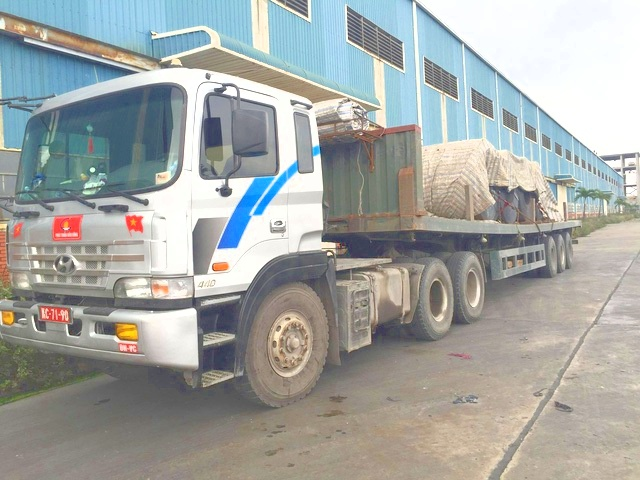plate: (34, 299, 77, 328)
